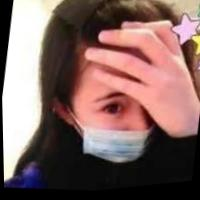WRONG: (66, 59, 169, 176)
